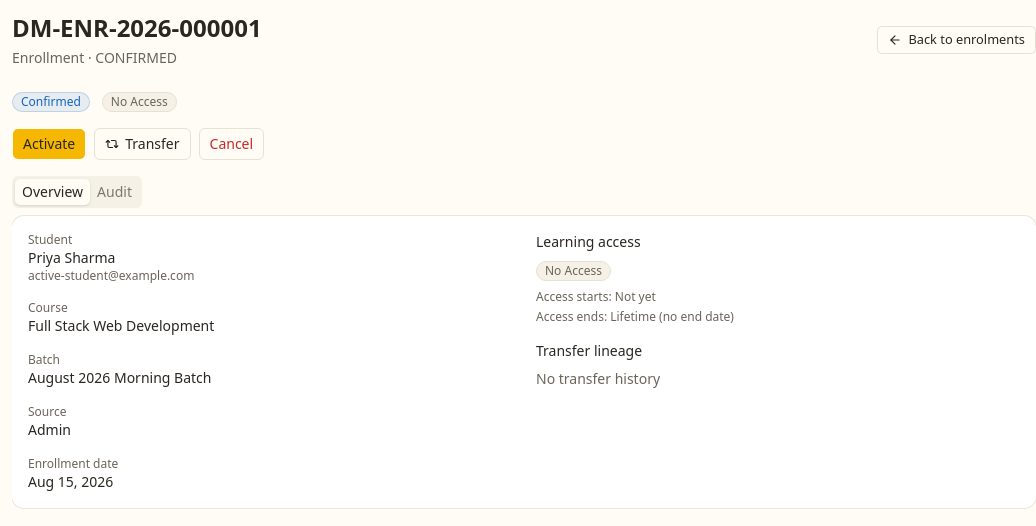
EnrollmentDetailPage › activates a CONFIRMED enrollment
Check: the heading "DM-ENR-2026-000001" is shown, box [12,12,262,44]
Check: the text "Confirmed" is shown, box [12,92,90,112]
Click the button "Activate" at [49, 144], box [12,128,86,160]
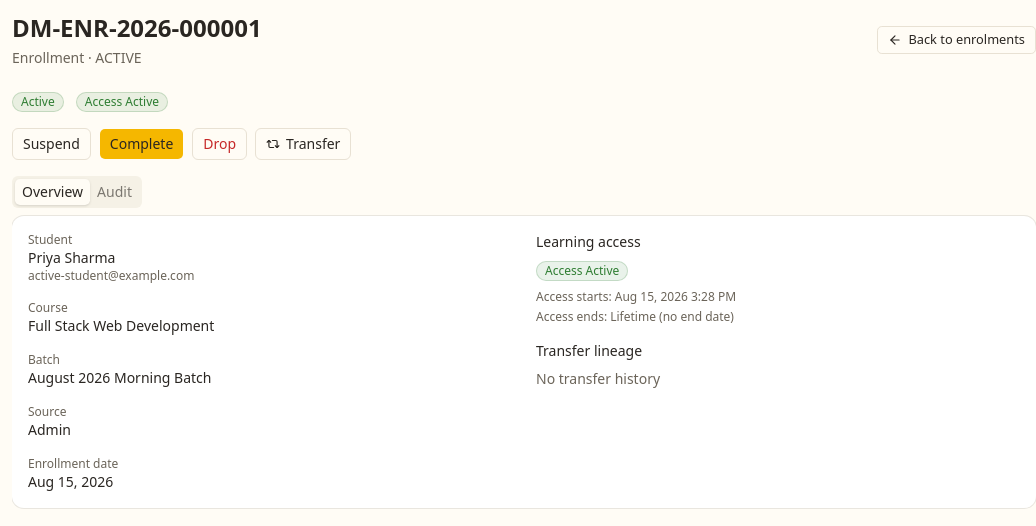
Check: the icon "Active" is shown, box [12,92,64,112]
Check: the 1st text "Access Active" is shown, box [76,92,168,112]
